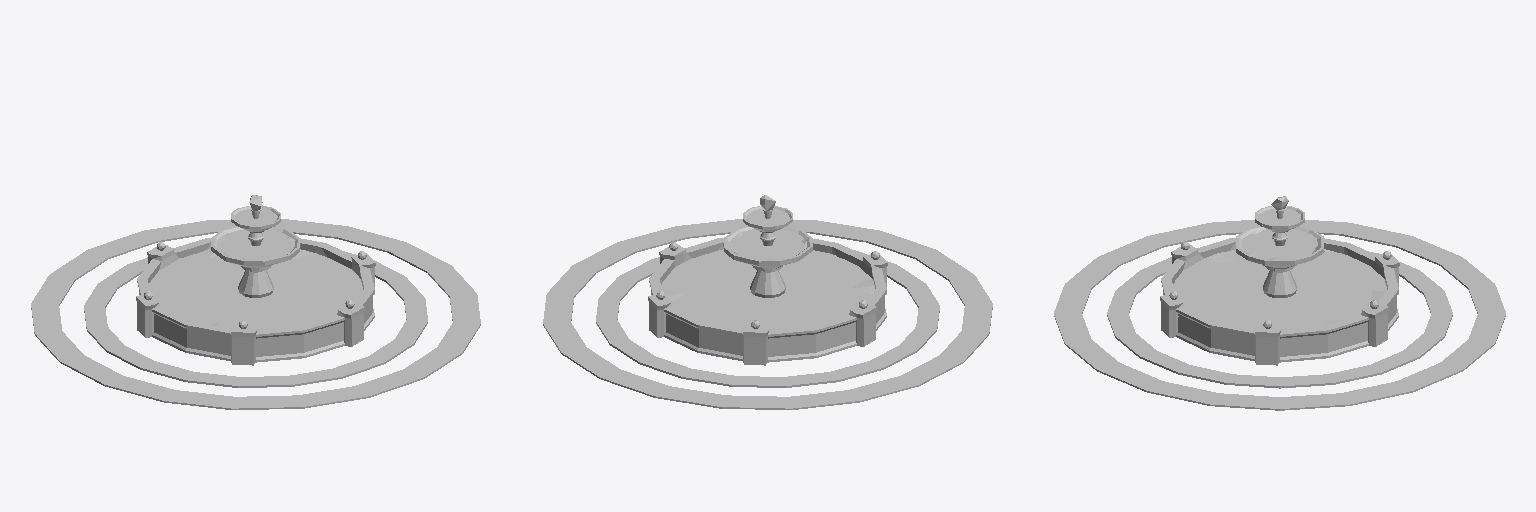
File: Fountain.obj
3 views of the same model, side by side, from view 1: azimuth 30°, elevation 25°; view 2: azimuth 150°, elevation 25°; view 3: azimuth 270°, elevation 25° (orthographic).
Visible parts, largest first — view 1: Fountain Base_Bevel_Outer Ground_stuff, Fountain Water Water_Bottom, Fountain_Ring Bowls Fountain, Fountain Ground_stuff Base_Bevel_Inner, Fountain Water Water_Mid, Bowls Fountain Bowl_Bottom, Fountain Pillars Pillar_Block_Base; view 2: Fountain Base_Bevel_Outer Ground_stuff, Fountain Water Water_Bottom, Fountain_Ring Bowls Fountain, Fountain Ground_stuff Base_Bevel_Inner, Fountain Water Water_Mid, Bowls Fountain Bowl_Bottom, Fountain Pillars Pillar_Block_Base; view 3: Fountain Base_Bevel_Outer Ground_stuff, Fountain Water Water_Bottom, Fountain_Ring Bowls Fountain, Fountain Ground_stuff Base_Bevel_Inner, Fountain Water Water_Mid, Bowls Fountain Bowl_Bottom, Fountain Pillars Pillar_Block_Base, Fountain Water_Top Water.
Part boxes in pixels (bbox=[...]): Fountain Base_Bevel_Outer Ground_stuff: bbox=[31, 219, 480, 409]; Fountain Water Water_Bottom: bbox=[149, 249, 362, 329]; Fountain_Ring Bowls Fountain: bbox=[136, 238, 375, 365]; Fountain Ground_stuff Base_Bevel_Inner: bbox=[84, 251, 427, 387]; Fountain Water Water_Mid: bbox=[217, 229, 294, 259]; Bowls Fountain Bowl_Bottom: bbox=[211, 226, 300, 269]; Fountain Pillars Pillar_Block_Base: bbox=[238, 266, 273, 297]; Fountain Base_Bevel_Outer Ground_stuff: bbox=[543, 219, 992, 409]; Fountain Water Water_Bottom: bbox=[661, 249, 875, 329]; Fountain_Ring Bowls Fountain: bbox=[648, 237, 887, 365]; Fountain Ground_stuff Base_Bevel_Inner: bbox=[596, 250, 939, 387]; Fountain Water Water_Mid: bbox=[729, 229, 806, 259]; Bowls Fountain Bowl_Bottom: bbox=[723, 226, 812, 269]; Fountain Pillars Pillar_Block_Base: bbox=[750, 266, 785, 297]; Fountain Base_Bevel_Outer Ground_stuff: bbox=[1054, 220, 1505, 410]; Fountain Water Water_Bottom: bbox=[1173, 249, 1386, 329]; Fountain_Ring Bowls Fountain: bbox=[1160, 238, 1399, 365]; Fountain Ground_stuff Base_Bevel_Inner: bbox=[1107, 251, 1452, 388]; Fountain Water Water_Mid: bbox=[1242, 229, 1317, 259]; Bowls Fountain Bowl_Bottom: bbox=[1236, 226, 1323, 268]; Fountain Pillars Pillar_Block_Base: bbox=[1263, 268, 1296, 297]; Fountain Water_Top Water: bbox=[1259, 209, 1300, 227].
Size of the model in its own units: 113 by 32.73 by 113.